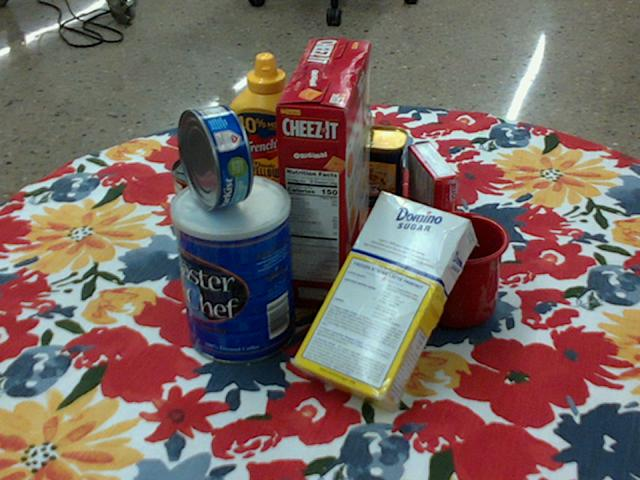cracker_box: (273, 40, 371, 311)
gelatin_box: (408, 141, 457, 236)
large_marker: (342, 77, 373, 128)
master_chef_can: (171, 176, 294, 367)
mug: (381, 210, 508, 328)
mustard_bottle: (224, 53, 317, 227)
potted_meat_can: (315, 122, 408, 211)
sugar_box: (292, 193, 476, 416)
tomato_soup_can: (171, 151, 244, 266)
tuna_fish_can: (176, 104, 253, 210)
